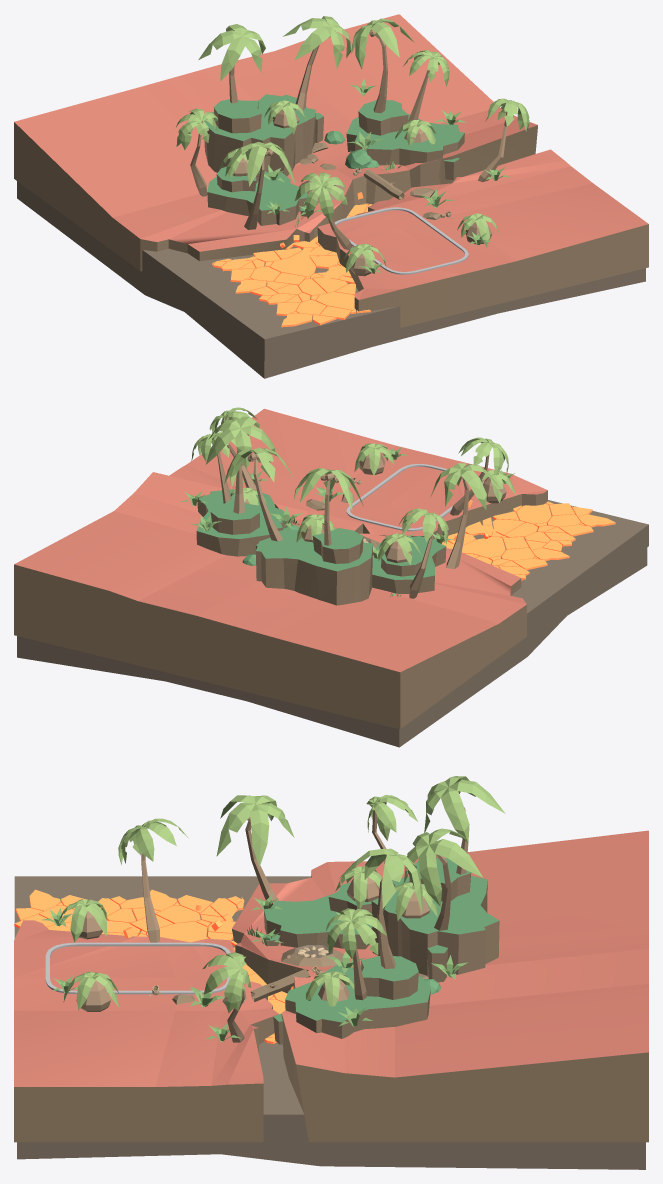
Rendered from Lvl_2.fbx.
3 renders of one model, top to bottom at view 1: azimuth 30°, elevation 25°; view 2: azimuth 150°, elevation 25°; view 3: azimuth 270°, elevation 25°, orthographic. The views are drawn at different scales.
Visible parts, largest first — view 1: world_field__2_.001, rock_terrasse.002, rock_terrasse.001, ground_cracked__1_.004, rock_terrasse__1_.001, ground_cracked__1_.003, palm_big.003, palm_big.002, palm_angle.002, palm_big.001, palm_big__1_.001, palm_angle__1_.001 (+8 smaller); view 2: world_field__2_.001, rock_terrasse.002, ground_cracked__1_.004, rock_terrasse.001, ground_cracked__1_.003, rock_terrasse__1_.001, palm_big.001, palm_big__1_.001, palm_big.003, palm_big.002, palm_angle__1_.001, palm_angle.002 (+7 smaller); view 3: world_field__2_.001, rock_terrasse.002, rock_terrasse.001, rock_terrasse__1_.001, ground_cracked__1_.003, palm_big__1_.001, palm_big.003, ground_cracked__1_.004, palm_big.001, palm_big.002, palm.001, palm_angle.002 (+10 smaller).
Part boxes in pixels (bbox=[...]): world_field__2_.001: bbox=[14, 14, 648, 378]; rock_terrasse.002: bbox=[204, 94, 323, 176]; rock_terrasse.001: bbox=[346, 100, 464, 180]; ground_cracked__1_.004: bbox=[250, 268, 370, 327]; rock_terrasse__1_.001: bbox=[207, 166, 313, 225]; ground_cracked__1_.003: bbox=[212, 242, 323, 293]; palm_big.003: bbox=[283, 16, 350, 110]; palm_big.002: bbox=[198, 24, 265, 103]; palm_angle.002: bbox=[295, 172, 352, 249]; palm_big.001: bbox=[351, 18, 414, 113]; palm_big__1_.001: bbox=[225, 142, 295, 229]; palm_angle__1_.001: bbox=[176, 108, 217, 196]; world_field__2_.001: bbox=[14, 408, 648, 747]; rock_terrasse.002: bbox=[255, 528, 373, 605]; ground_cracked__1_.004: bbox=[469, 501, 615, 551]; rock_terrasse.001: bbox=[196, 489, 292, 556]; ground_cracked__1_.003: bbox=[451, 531, 569, 580]; rock_terrasse__1_.001: bbox=[372, 536, 446, 593]; palm_big.001: bbox=[206, 416, 275, 513]; palm_big__1_.001: bbox=[431, 463, 501, 568]; palm_big.003: bbox=[224, 447, 294, 541]; palm_big.002: bbox=[293, 467, 363, 545]; palm_angle__1_.001: bbox=[398, 508, 448, 598]; palm_angle.002: bbox=[450, 437, 508, 515]; world_field__2_.001: bbox=[14, 830, 648, 1169]; rock_terrasse.002: bbox=[371, 858, 499, 982]; rock_terrasse.001: bbox=[273, 956, 430, 1044]; rock_terrasse__1_.001: bbox=[262, 882, 372, 949]; ground_cracked__1_.003: bbox=[131, 889, 244, 946]; palm_big__1_.001: bbox=[216, 795, 294, 908]; palm_big.003: bbox=[403, 828, 482, 930]; ground_cracked__1_.004: bbox=[14, 889, 144, 936]; palm_big.001: bbox=[338, 848, 422, 968]; palm_big.002: bbox=[424, 776, 505, 874]; palm.001: bbox=[326, 908, 386, 1000]; palm_angle.002: bbox=[118, 818, 188, 942].
Bounding box in the file's own units: 10426 × 4954 × 11695.
